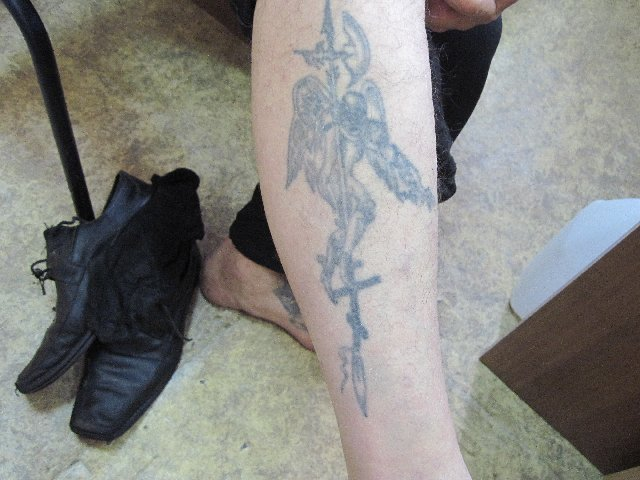tatu1_angel: (283, 72, 437, 258)
